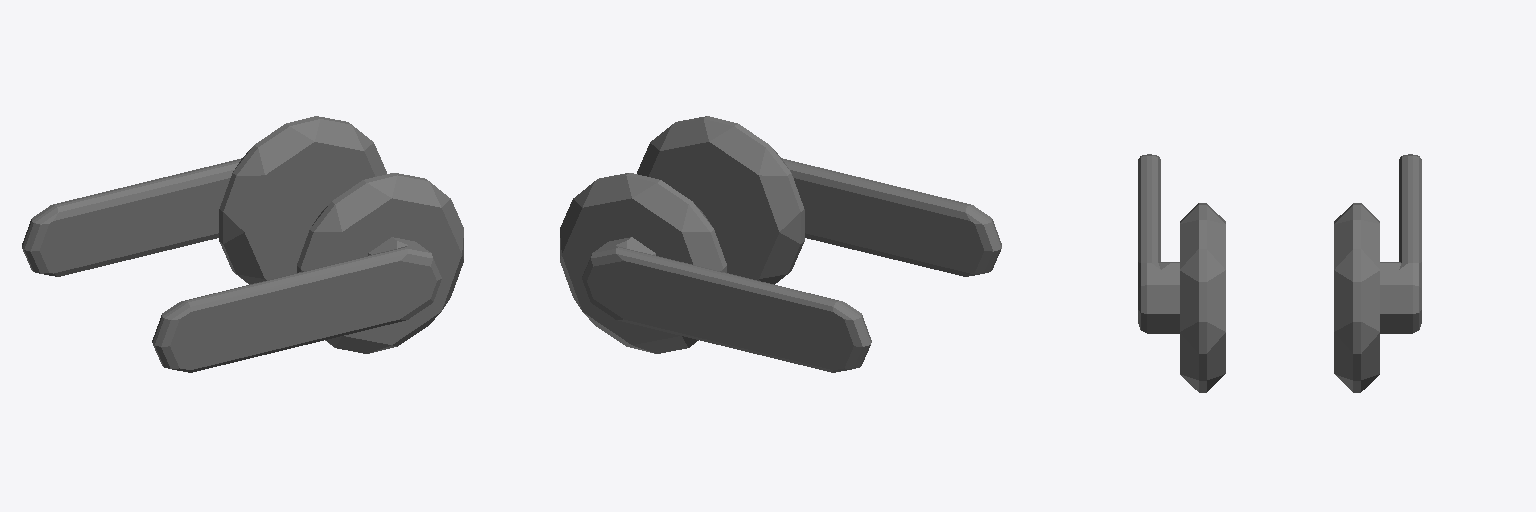
The model's file is doorKnob2.obj.
The picture shows the model from 3 angles: view 1: azimuth 30°, elevation 25°; view 2: azimuth 150°, elevation 25°; view 3: azimuth 270°, elevation 25°; orthographic projection.
Visible parts, largest first — view 1: door2.001_Material.010; view 2: door2.001_Material.010; view 3: door2.001_Material.010.
Boxes of the visible parts, x1,y1,x2,y2 form: door2.001_Material.010: [22, 116, 463, 372]; door2.001_Material.010: [560, 116, 1001, 372]; door2.001_Material.010: [1138, 154, 1421, 392].
Bounding box in the file's own units: 0.2644 × 0.1291 × 0.194.